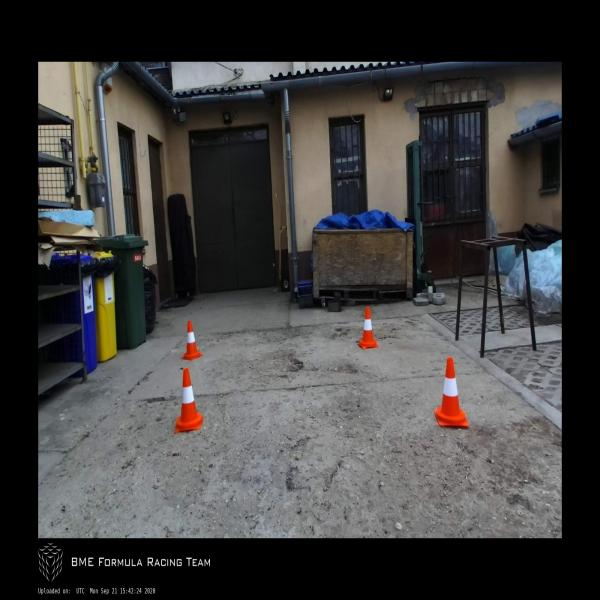orange_cone: (434, 358, 469, 426), (175, 368, 203, 434), (357, 306, 379, 350), (180, 321, 203, 360)
